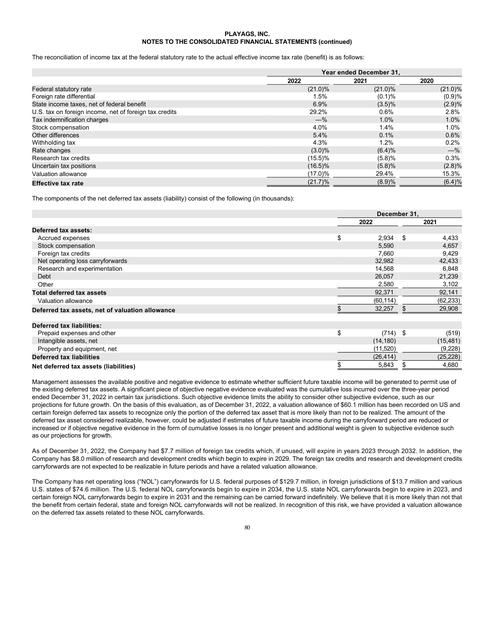box: (30, 206, 464, 373), (31, 64, 465, 190)
